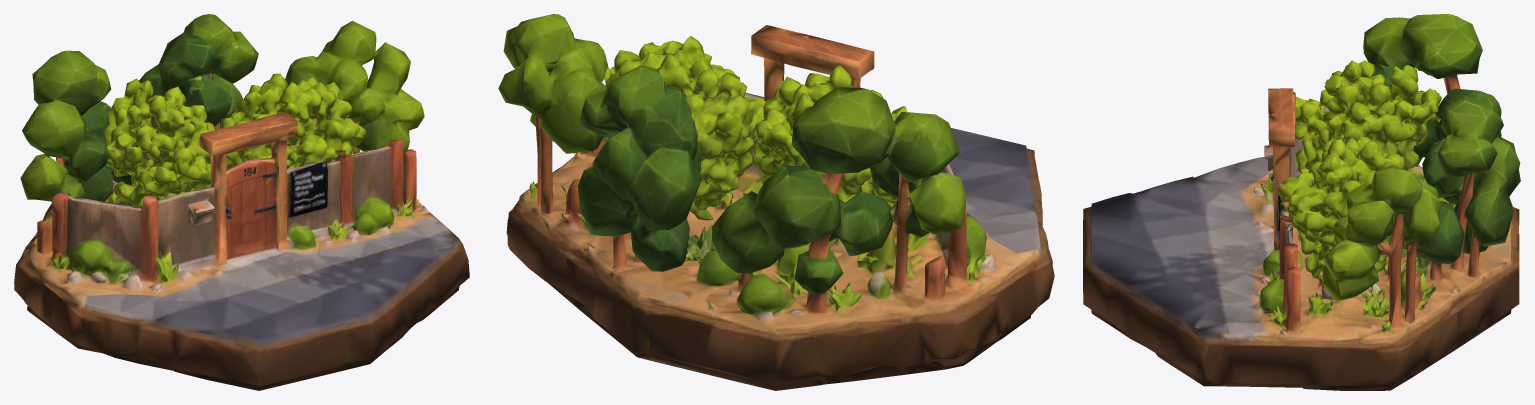
The model's file is oslovar_v1.glb.
3 views of the same model, side by side, from view 1: azimuth 30°, elevation 25°; view 2: azimuth 150°, elevation 25°; view 3: azimuth 270°, elevation 25° (orthographic). The views are drawn at different scales.
Size of the model in its own units: 1.89 by 1.04 by 1.78.
1 material, 1 textured.
